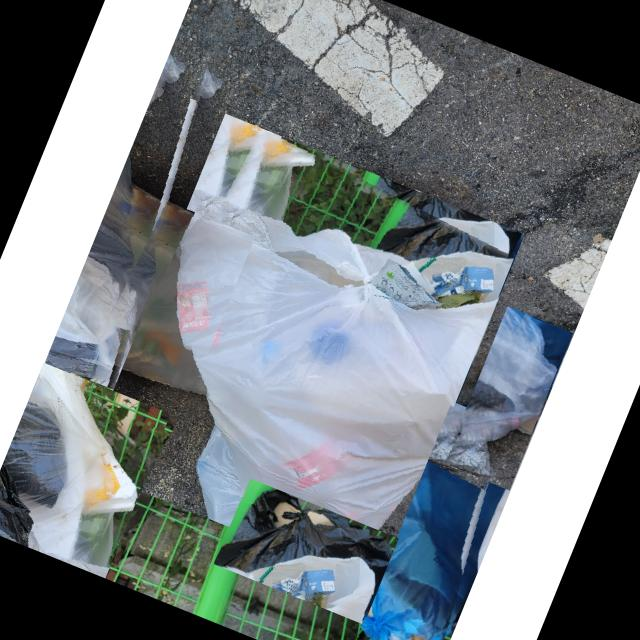other_trashbag: (187, 208, 515, 571), (20, 142, 137, 424), (361, 422, 504, 640), (6, 364, 137, 567), (445, 312, 557, 475), (214, 489, 392, 586), (135, 201, 251, 333), (144, 43, 191, 116)
